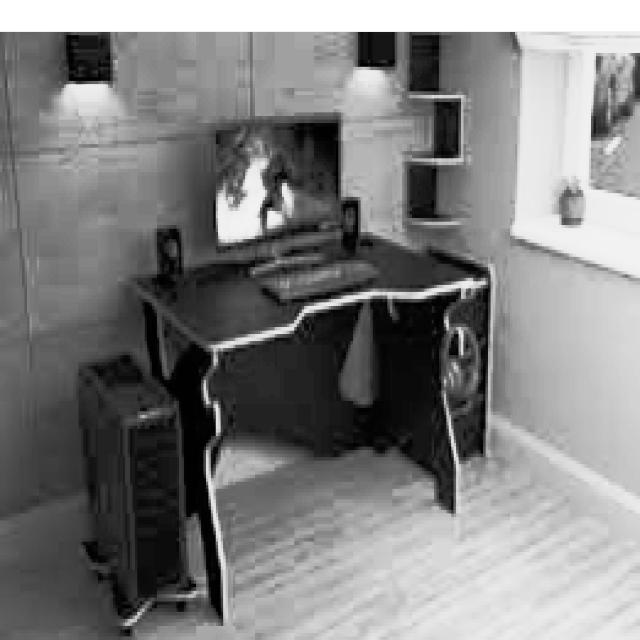table: (130, 228, 493, 622)
